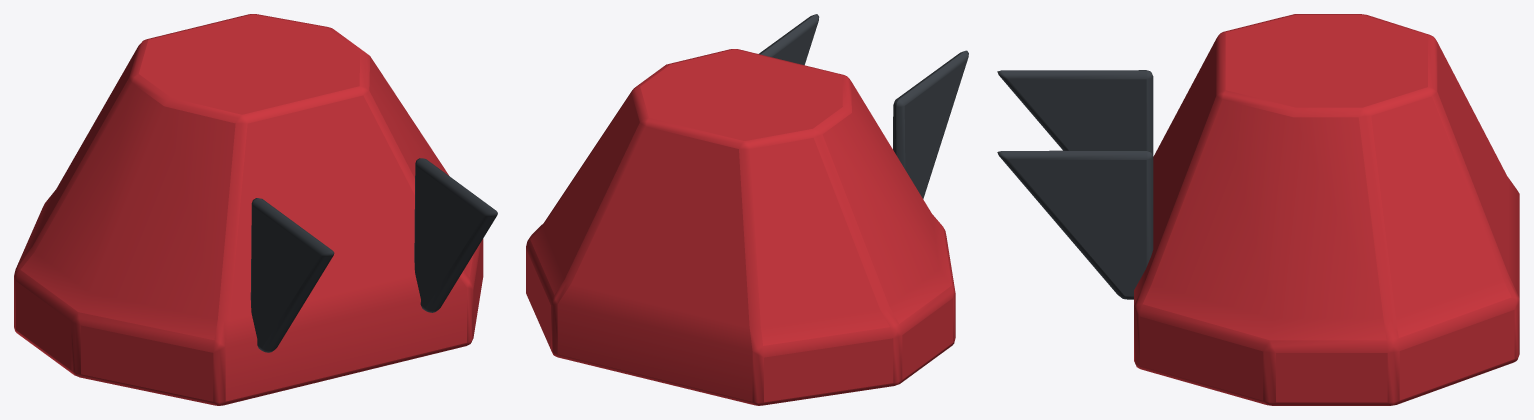
File: AnimalHeadBack_Set07_Salvo.fbx
3 renders of one model, left to right at view 1: azimuth 30°, elevation 25°; view 2: azimuth 150°, elevation 25°; view 3: azimuth 270°, elevation 25°, orthographic. The views are drawn at different scales.
Visible parts, largest first — view 1: AnimalHeadBack_Set07_Salvo; view 2: AnimalHeadBack_Set07_Salvo; view 3: AnimalHeadBack_Set07_Salvo.
Part boxes in pixels (x1,y1,x2,y2): AnimalHeadBack_Set07_Salvo: (14, 14, 497, 405); AnimalHeadBack_Set07_Salvo: (526, 14, 968, 405); AnimalHeadBack_Set07_Salvo: (997, 14, 1519, 405).
Size of the model in its own units: 0.42 by 0.24 by 0.4607.
